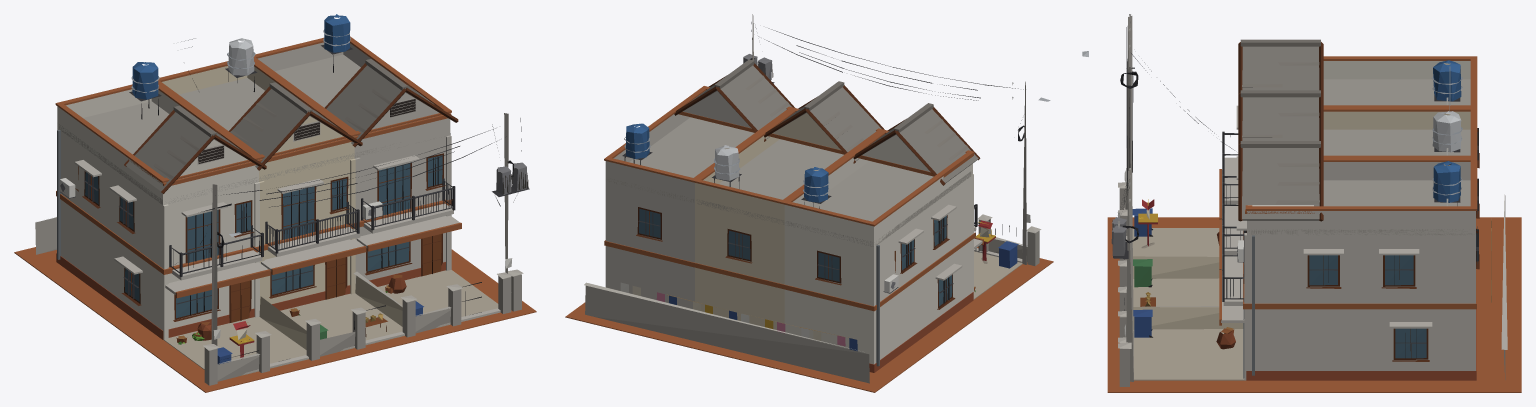
Rendered from home_3.glb.
3 views of the same model, side by side, from view 1: azimuth 30°, elevation 25°; view 2: azimuth 150°, elevation 25°; view 3: azimuth 270°, elevation 25° (orthographic). The views are drawn at different scales.
Parts seen in each view (by area): view 1: body, windows; view 2: body, windows; view 3: body, windows.
Boxes of the visible parts, x1=… form: body: x1=14, y1=14, x2=536, y2=392; windows: x1=85, y1=99, x2=442, y2=318; body: x1=565, y1=14, x2=1053, y2=392; windows: x1=639, y1=208, x2=952, y2=306; body: x1=1082, y1=14, x2=1521, y2=392; windows: x1=1309, y1=211, x2=1477, y2=358.
Bounding box in the file's own units: 15.9 × 9.75 × 16.88.
